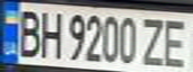0: (118, 12, 142, 65), (100, 11, 121, 64)
2: (84, 10, 106, 63)
9: (63, 9, 87, 62)
B: (12, 6, 45, 57)
E: (157, 15, 193, 70)
H: (36, 7, 63, 60)
Z: (139, 13, 169, 69)
